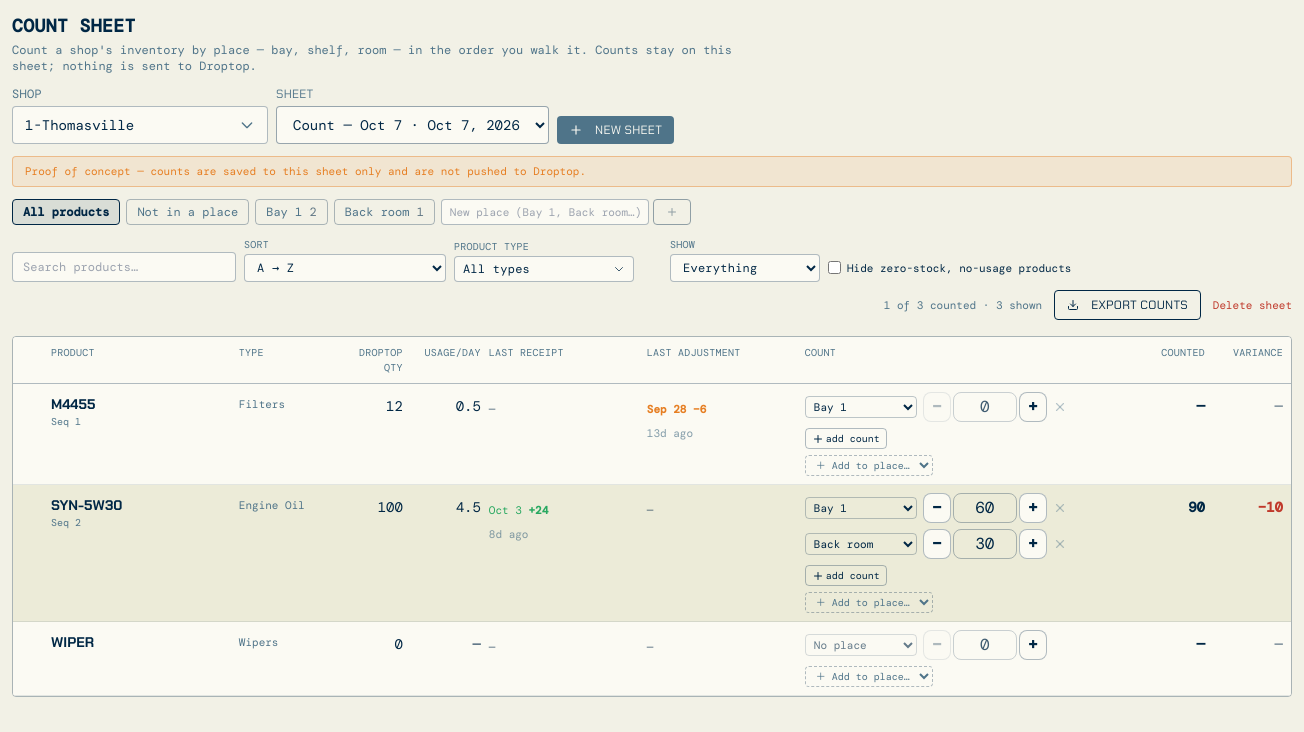
it: CountSheetPage › filters by product type and searches
Expected: the text "WIPER" is shown, [51,633,94,651]
Expected: the text "SYN-5W30" is shown, [51,496,122,514]
Type "wiper" into the field with placeholder "Search products…". click: (124, 267)
box: [12,252,236,282]
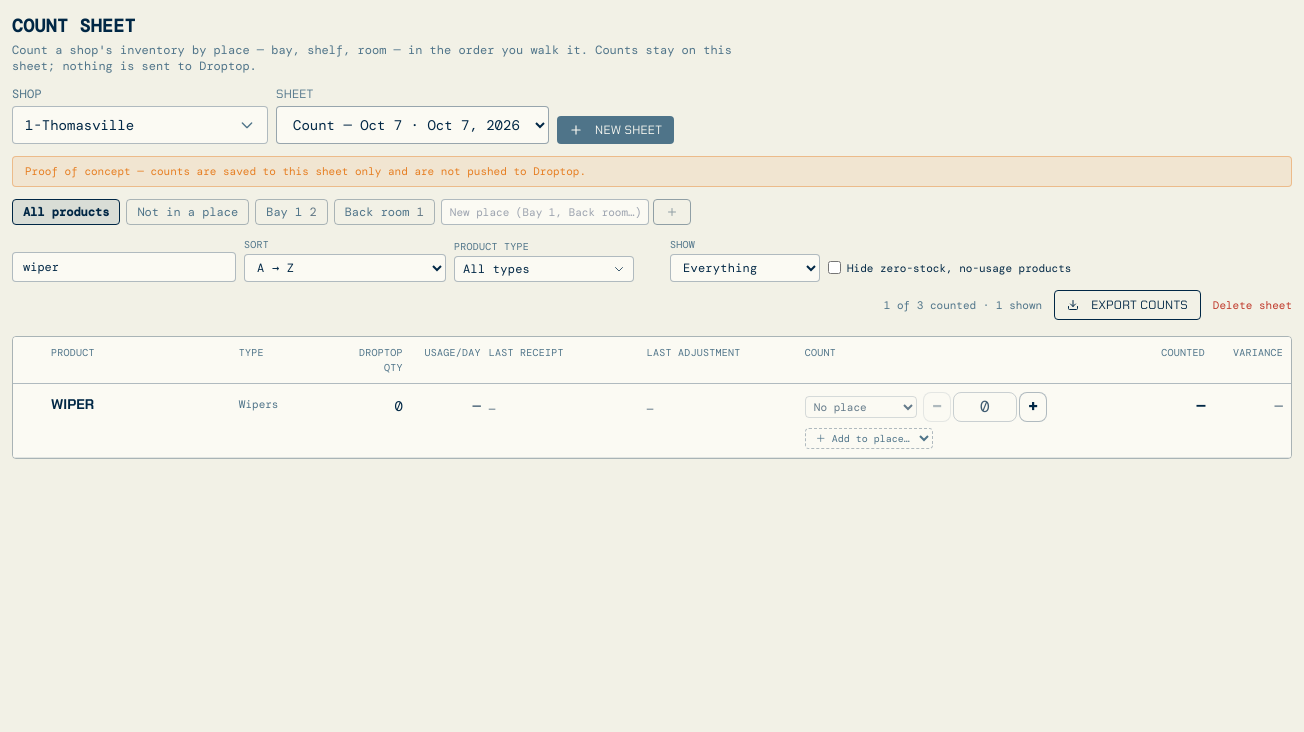
Expected: the text "WIPER" is shown, [51,395,94,413]
Expected: the text "SYN-5W30" is gone
Expected: the text "1 of 3 counted · 1 shown" is shown, [884,297,1042,313]
